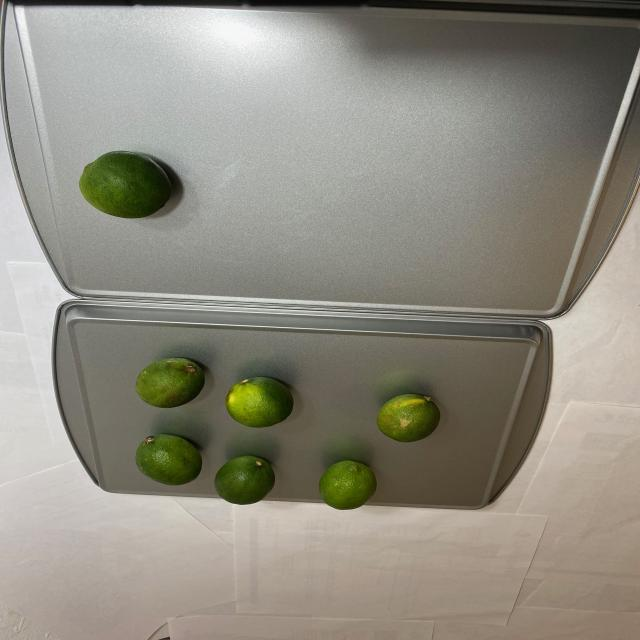lemon: (114, 354, 453, 504), (79, 147, 176, 220)
